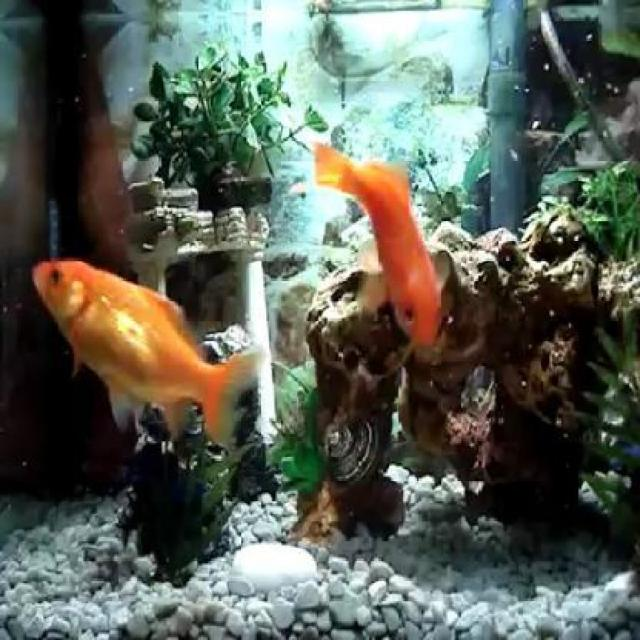GoldFish: (32, 254, 268, 446), (312, 136, 440, 349)
